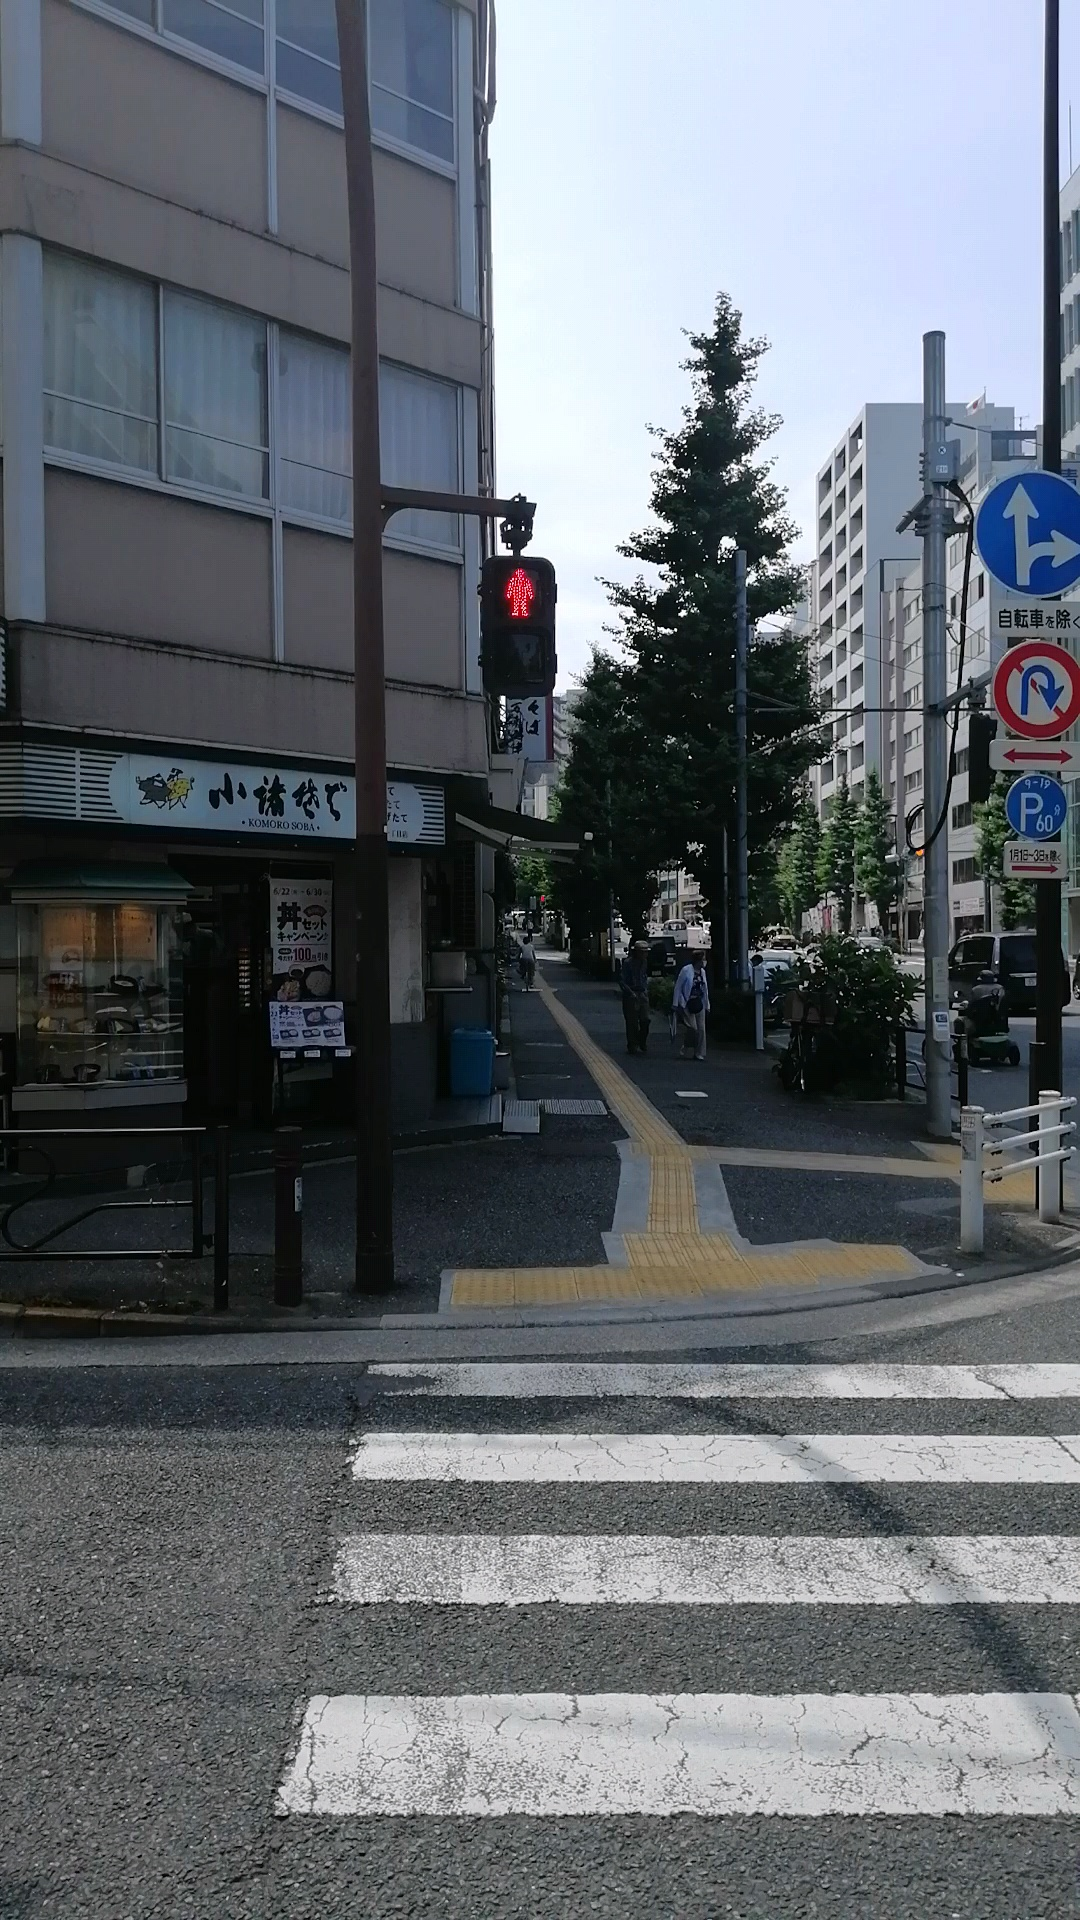red: (479, 555, 558, 698)
